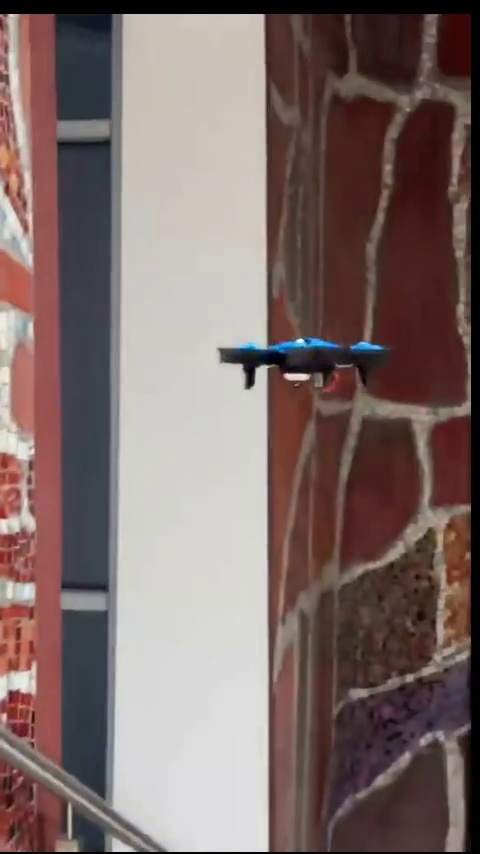drone: (218, 333, 391, 394)
